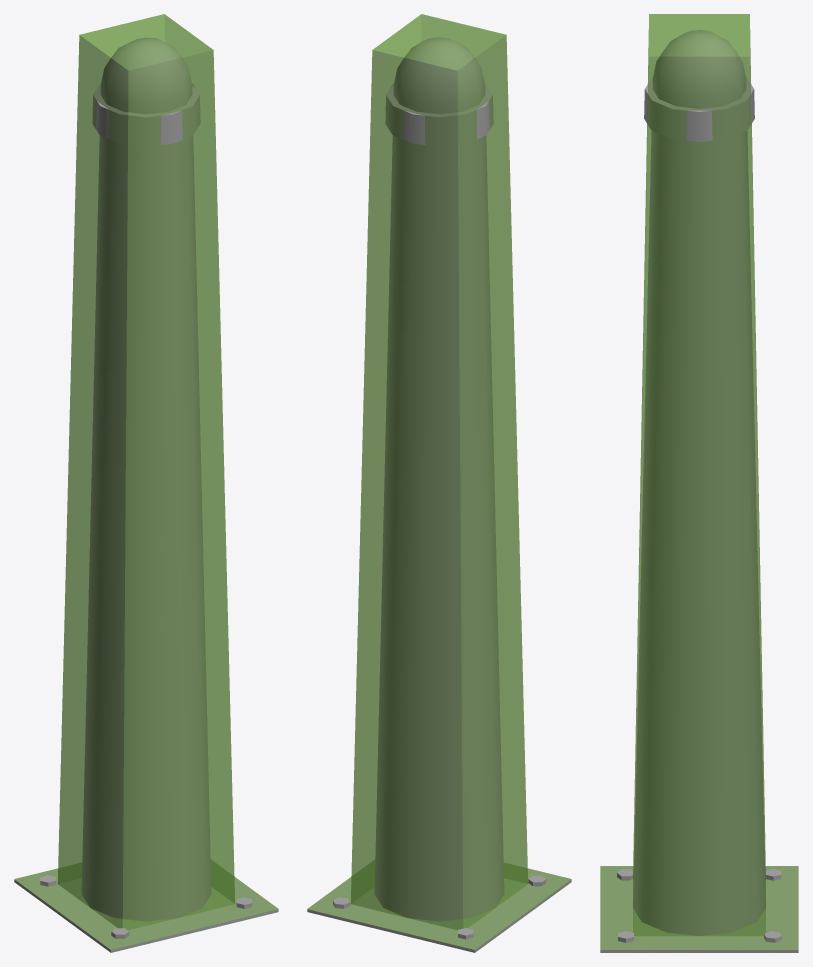
Rendered from p_Bollard_01_a.fbx.
3 views of the same model, side by side, from view 1: azimuth 30°, elevation 25°; view 2: azimuth 150°, elevation 25°; view 3: azimuth 270°, elevation 25° (orthographic). The views are drawn at different scales.
Visible parts, largest first — view 1: p_Bollard_01_a_col_01, p_Bollard_01_a_LOD0, p_Bollard_01_a_col_02; view 2: p_Bollard_01_a_col_01, p_Bollard_01_a_LOD0, p_Bollard_01_a_col_02; view 3: p_Bollard_01_a_LOD0, p_Bollard_01_a_col_01, p_Bollard_01_a_col_02.
Part boxes in pixels (left/top/right/bottom): p_Bollard_01_a_col_01: left=57, top=14, right=235, bottom=929; p_Bollard_01_a_LOD0: left=14, top=37, right=278, bottom=952; p_Bollard_01_a_col_02: left=14, top=868, right=277, bottom=952; p_Bollard_01_a_col_01: left=350, top=14, right=528, bottom=929; p_Bollard_01_a_LOD0: left=307, top=37, right=571, bottom=952; p_Bollard_01_a_col_02: left=307, top=868, right=571, bottom=950; p_Bollard_01_a_LOD0: left=600, top=30, right=798, bottom=952; p_Bollard_01_a_col_01: left=633, top=14, right=765, bottom=935; p_Bollard_01_a_col_02: left=600, top=866, right=798, bottom=952.
Size of what is drawn, in the model's own units: 16.89 by 82.23 by 16.89.
